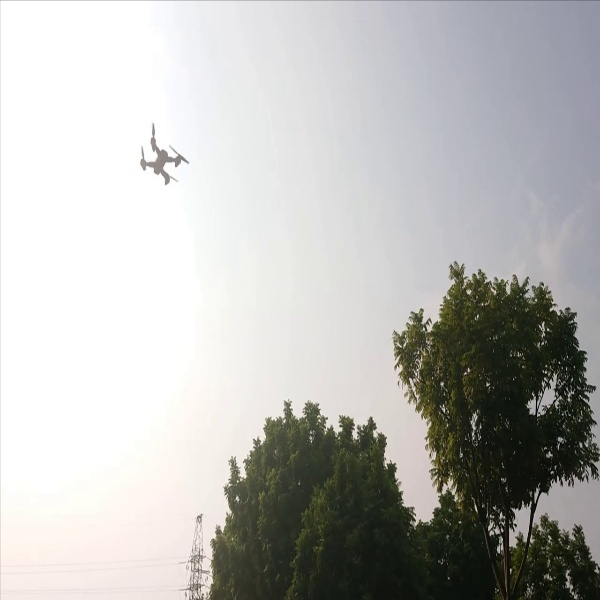drone: (133, 115, 196, 191)
